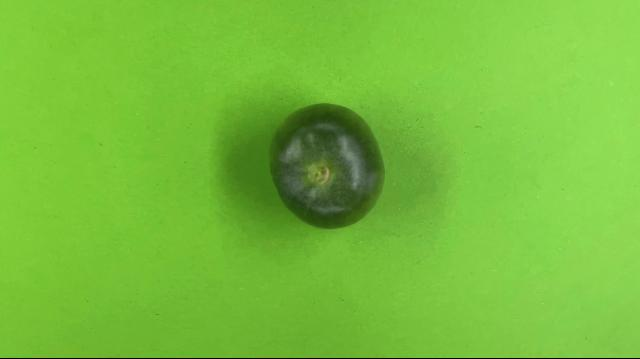Fruit Maturation: (265, 100, 388, 233)
